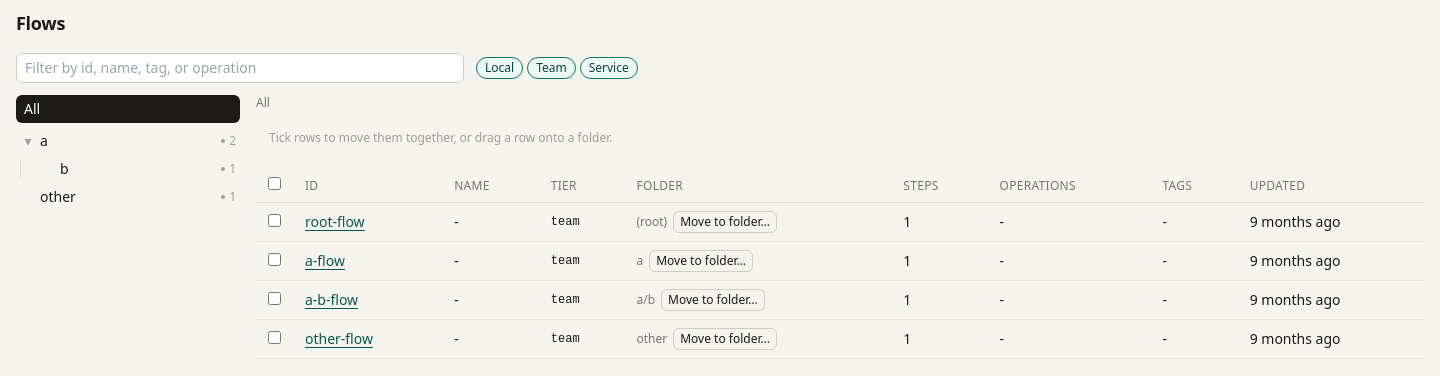
Test: folder sidebar (via FlowsPage) › shows the sidebar, filters the list to a selected folder and everything below it, and keeps an unrelated folder out
The image size is (1440, 376).
Expected: the 1st button "All" is shown, [16,95,240,123]
Expected: the link "root-flow" is shown, [305,212,365,231]
Click the list item "a" at [44, 140], box [16,127,240,155]
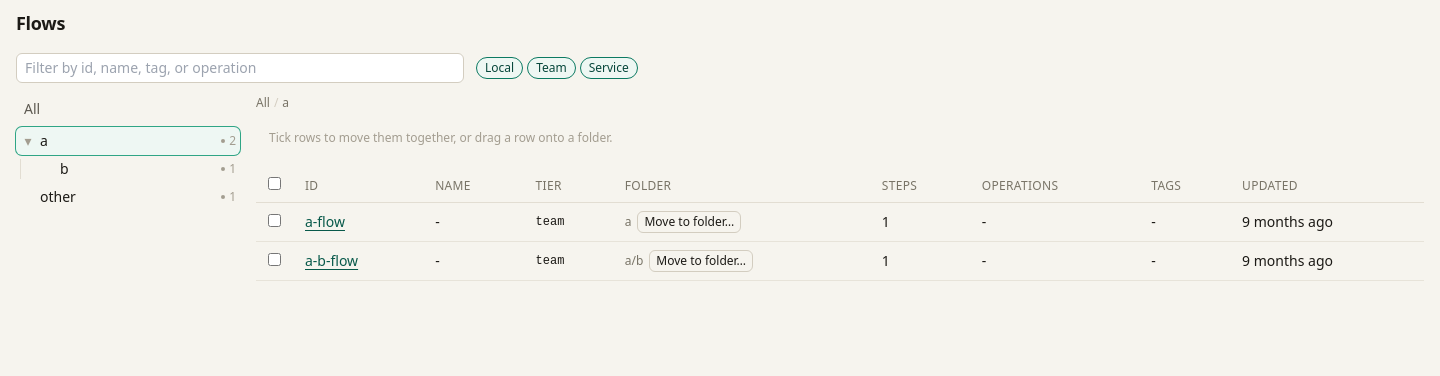
Expected: the link "a-flow" is shown, [305,212,345,231]
Expected: the link "root-flow" is gone
Expected: the link "other-flow" is gone
